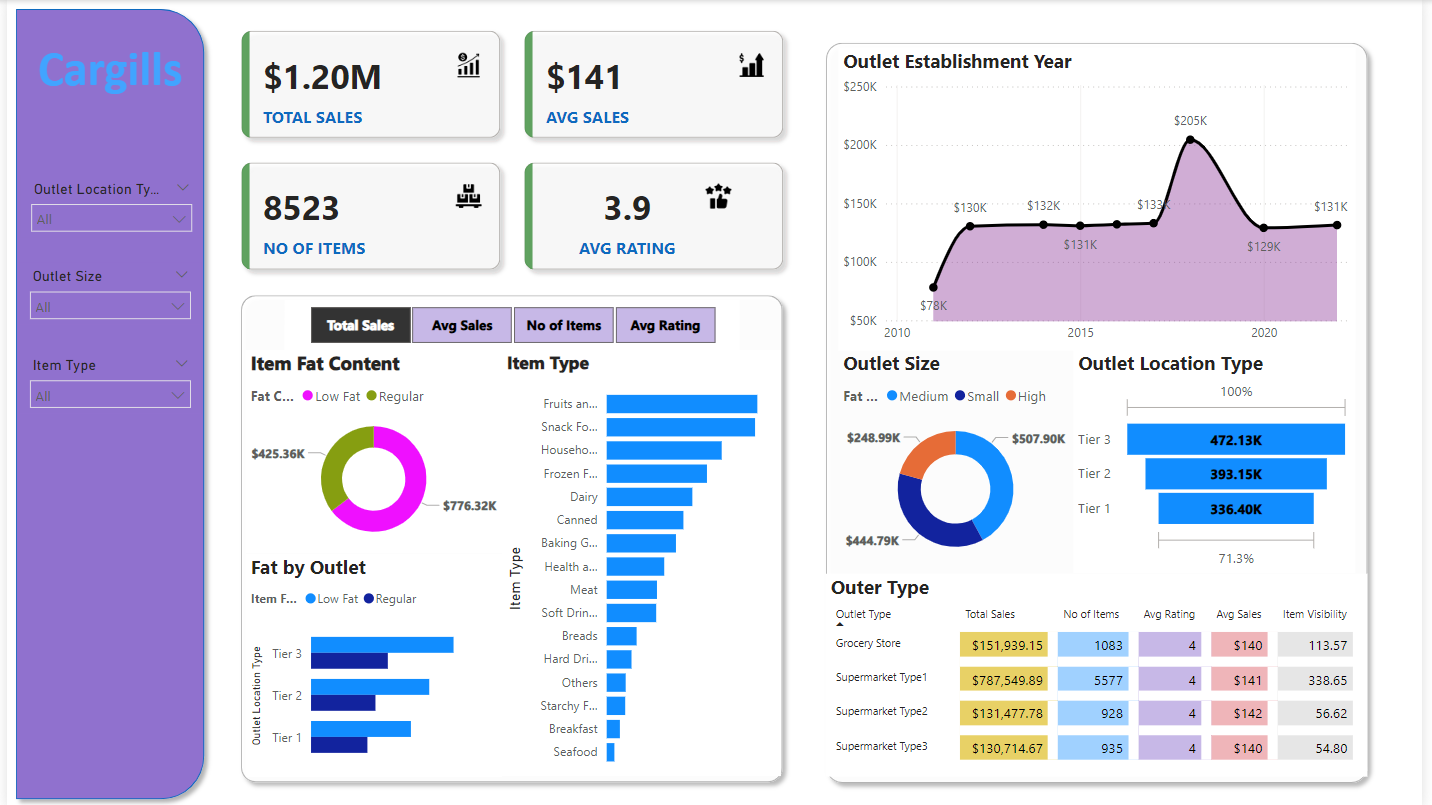

This screenshot's page, from the dashboard's own definition file:
{"tool":"powerbi","page":{"name":"Page 1","canvas":[1400,800],"ordinal":0},"visuals":[{"type":"shape","box":[0,0,204.1,800],"z":0},{"type":"textbox","box":[0,33,204.1,73.5],"z":1000},{"type":"cardVisual","fields":{"Data":["BlinkIT Grocery Data.Total Sales","BlinkIT Grocery Data.Avg Sales","BlinkIT Grocery Data.No of Items","BlinkIT Grocery Data.Avg Rating"]},"box":[214.6,13.5,570.3,270.2],"z":2000},{"type":"shape","box":[222.1,283.7,553.8,499.8],"z":3000},{"type":"donutChart","title":"Item Fat Content","fields":{"Y":["Grocery Data.Total Sales"],"Category":["BlinkIT Grocery Data.Item Fat Content"]},"box":[235.6,346.7,253.6,201.1],"z":4000},{"type":"slicer","fields":{"Values":["Metrics.Metrics"]},"box":[274.7,297.2,450.3,49.5],"z":5000},{"type":"clusteredBarChart","title":"Fat by Outlet","fields":{"Y":["Grocery Data.Total Sales"],"Category":["BlinkIT Grocery Data.Outlet Location Type"],"Series":["BlinkIT Grocery Data.Item Fat Content"]},"box":[235.6,547.8,253.6,220.6],"z":6000},{"type":"clusteredBarChart","title":"Item Type","fields":{"Y":["Grocery Data.Total Sales"],"Category":["BlinkIT Grocery Data.Item Type"]},"box":[489.3,346.7,276.2,421.7],"z":7000},{"type":"shape","box":[801.5,33,553.8,750.4],"z":8000},{"type":"lineChart","title":"Outlet Establishment Year","fields":{"Y":["BlinkIT Grocery Data.Total Sales"],"Category":["BlinkIT Grocery Data.Outlet Establishment Year"]},"box":[822.5,46.5,511.8,300.2],"z":9000},{"type":"donutChart","title":"Outlet Size","fields":{"Y":["BlinkIT Grocery Data.Total Sales"],"Category":["BlinkIT Grocery Data.Outlet Size"]},"box":[822.5,346.7,232.6,220.6],"z":10000},{"type":"funnel","title":"Outlet Location Type","fields":{"Y":["Sum(BlinkIT Grocery Data.Sales)"],"Category":["BlinkIT Grocery Data.Outlet Location Type"]},"box":[1055.1,346.7,279.2,220.6],"z":11000},{"type":"pivotTable","title":"Outer Type","fields":{"Rows":["BlinkIT Grocery Data.Outlet Type"],"Values":["BlinkIT Grocery Data.Total Sales","BlinkIT Grocery Data.No of Items","BlinkIT Grocery Data.Avg Rating","BlinkIT Grocery Data.Avg Sales","Sum(BlinkIT Grocery Data.Item Visibility)"]},"box":[810.5,567.3,535.8,201.1],"z":12000},{"type":"slicer","fields":{"Values":["BlinkIT Grocery Data.Outlet Location Type"]},"box":[13.4,172.9,179.6,61.7],"z":13000},{"type":"slicer","fields":{"Values":["BlinkIT Grocery Data.Outlet Size"]},"box":[12.1,260.1,179.6,61.7],"z":14000},{"type":"slicer","fields":{"Values":["BlinkIT Grocery Data.Item Type"]},"box":[12.1,347.2,179.6,61.7],"z":15000}]}

Visuals, with their boxes in screenshot pixels (x1, y1, x2, y2), scaled from the page's 1400x800 canvas onto the 1432x805 screenshot:
shape: bbox(0, 0, 209, 804)
textbox: bbox(0, 33, 209, 107)
cardVisual - BlinkIT Grocery Data.Total Sales x BlinkIT Grocery Data.Avg Sales: bbox(220, 14, 803, 285)
shape: bbox(227, 285, 794, 788)
"Item Fat Content" donutChart: bbox(241, 349, 500, 551)
slicer - Metrics.Metrics: bbox(281, 299, 742, 349)
"Fat by Outlet" clusteredBarChart: bbox(241, 551, 500, 773)
"Item Type" clusteredBarChart: bbox(500, 349, 783, 773)
shape: bbox(820, 33, 1386, 788)
"Outlet Establishment Year" lineChart: bbox(841, 47, 1365, 349)
"Outlet Size" donutChart: bbox(841, 349, 1079, 571)
"Outlet Location Type" funnel: bbox(1079, 349, 1365, 571)
"Outer Type" pivotTable: bbox(829, 571, 1377, 773)
slicer - BlinkIT Grocery Data.Outlet Location Type: bbox(14, 174, 197, 236)
slicer - BlinkIT Grocery Data.Outlet Size: bbox(12, 262, 196, 324)
slicer - BlinkIT Grocery Data.Item Type: bbox(12, 349, 196, 411)
